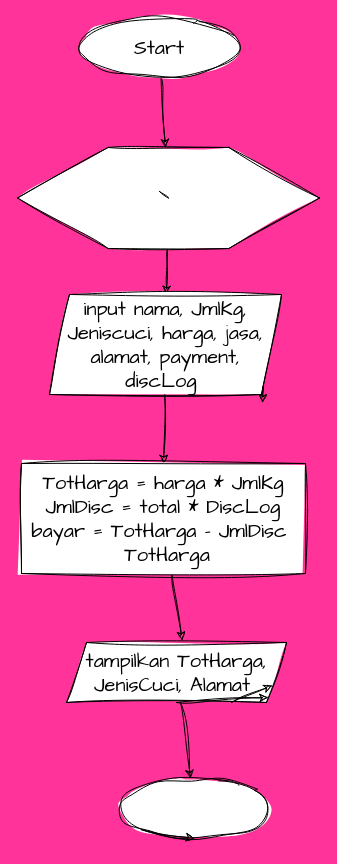
Some shapes in this 337 by 864 pixel diagram are drawn without their labels. The shapes that lost their labels are listed below. From the top down, each one's box as (x1, y1, x2, y2) in pixels, then its label:
(16, 146, 320, 248): double basah, kering, setrika lipat, TotHarga, JmlDisc int JmlKg
(118, 778, 270, 838): End
